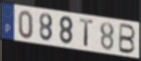0: (17, 9, 34, 41)
8: (98, 20, 115, 53), (59, 15, 74, 45), (39, 13, 54, 42)
B: (118, 22, 137, 56)
T: (79, 17, 95, 48)
